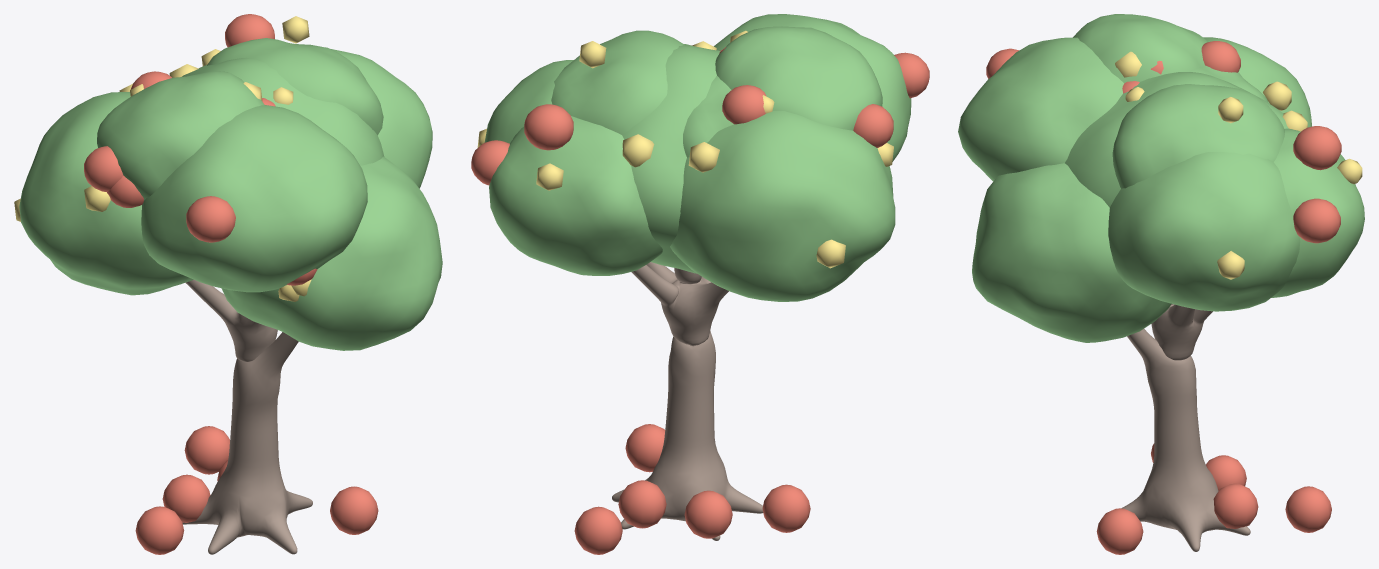
The model's file is tree_grand_0.glb.
3 renders of one model, left to right at view 1: azimuth 30°, elevation 25°; view 2: azimuth 150°, elevation 25°; view 3: azimuth 270°, elevation 25°, orthographic. The views are drawn at different scales.
Visible parts, largest first — view 1: leaf_4, leaf_5, leaf_3, trunk, leaf_7, fallen, leaf_9, leaf_1, leaf_0, blossom, fruit_14, fruit_7 (+2 smaller); view 2: leaf_3, leaf_2, trunk, leaf_7, leaf_0, fallen, leaf_9, leaf_4, blossom, leaf_1, leaf_6, fruit_12 (+4 smaller); view 3: leaf_1, leaf_5, leaf_4, trunk, leaf_9, leaf_2, fallen, leaf_7, leaf_0, blossom, leaf_3, fruit_2 (+3 smaller).
Boxes of the visible parts, x1,y1,x2,y2 form: leaf_4: (141, 105, 367, 292); leaf_5: (221, 156, 442, 350); leaf_3: (19, 92, 193, 295); trunk: (182, 280, 312, 554); leaf_7: (97, 71, 264, 200); fallen: (135, 426, 378, 554); leaf_9: (207, 38, 383, 135); leaf_1: (331, 49, 432, 188); leaf_0: (182, 57, 384, 165); blossom: (14, 16, 311, 301); fruit_14: (186, 196, 235, 242); fruit_7: (84, 146, 123, 191); leaf_3: (670, 111, 895, 301); leaf_2: (489, 116, 662, 275); trunk: (612, 262, 763, 540); leaf_7: (715, 26, 882, 130); leaf_0: (622, 44, 720, 273); fallen: (574, 424, 810, 554); leaf_9: (551, 30, 684, 134); leaf_4: (714, 14, 911, 161); blossom: (477, 30, 893, 268); leaf_1: (484, 60, 573, 143); leaf_6: (683, 76, 733, 157); fruit_12: (524, 104, 573, 150); leaf_1: (1108, 152, 1300, 311); leaf_5: (972, 163, 1171, 342); leaf_4: (958, 37, 1124, 181); trunk: (1121, 304, 1250, 551); leaf_9: (1112, 84, 1284, 188); leaf_2: (1271, 128, 1364, 297); fallen: (1096, 443, 1331, 554); leaf_7: (1073, 14, 1208, 82); leaf_0: (1065, 72, 1288, 207); blossom: (1115, 51, 1362, 279); leaf_3: (1203, 37, 1311, 127); fruit_2: (1293, 198, 1340, 243).
Bounding box in the file's own units: 3.56 × 4.16 × 3.31.
